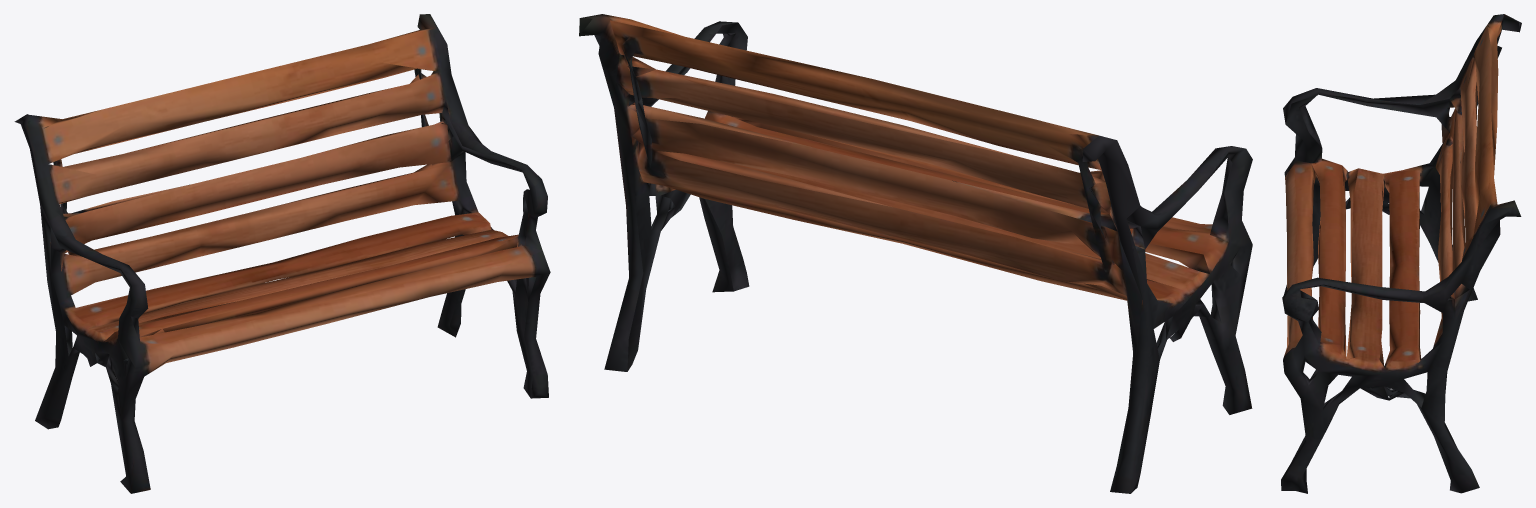
File: street-bench.glb
The picture shows the model from 3 angles, left to right: view 1: azimuth 30°, elevation 25°; view 2: azimuth 150°, elevation 25°; view 3: azimuth 270°, elevation 25°; orthographic projection. The views are drawn at different scales.
Parts seen in each view (by area): view 1: Mesh_0.006; view 2: Mesh_0.006; view 3: Mesh_0.006.
Boxes of the visible parts, <box> form: Mesh_0.006: <box>14,14,550,493</box>; Mesh_0.006: <box>579,14,1252,493</box>; Mesh_0.006: <box>1281,14,1521,493</box>.
Size of the model in its own units: 1.9 by 1.29 by 0.9767.
1 material, 1 textured.
